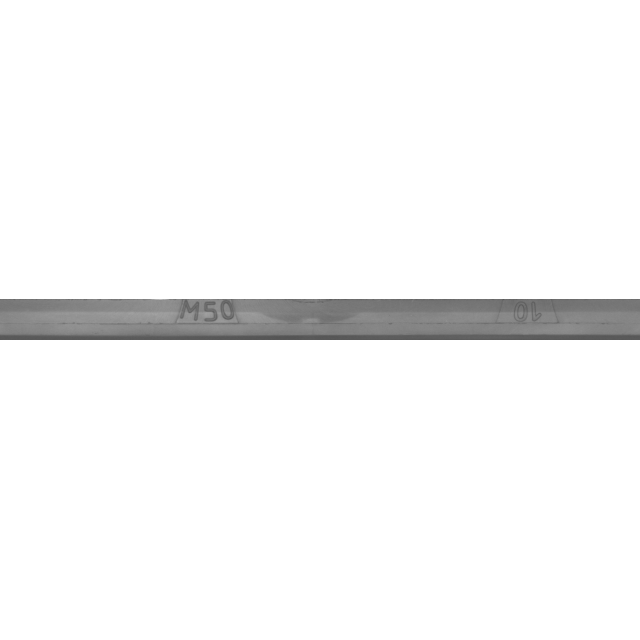mohao: (105, 270, 305, 370)
xuehao: (430, 270, 630, 370)
